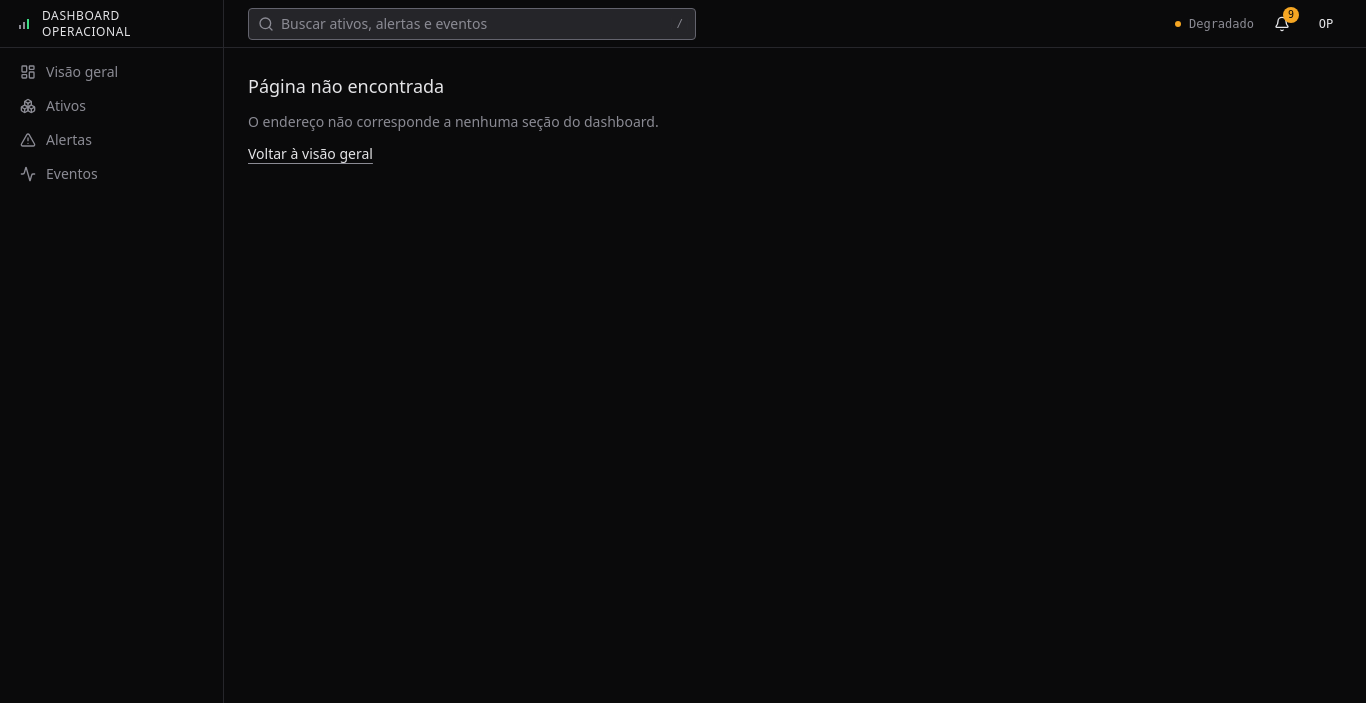
Test: rotas › rota desconhecida mostra a página 404 com caminho de volta
The width and height of the screenshot is (1366, 703).
Expected: the heading "Página não encontrada" is shown, [248,72,444,100]
Click the link "Voltar à visão geral": click(310, 154) [248,144,373,164]
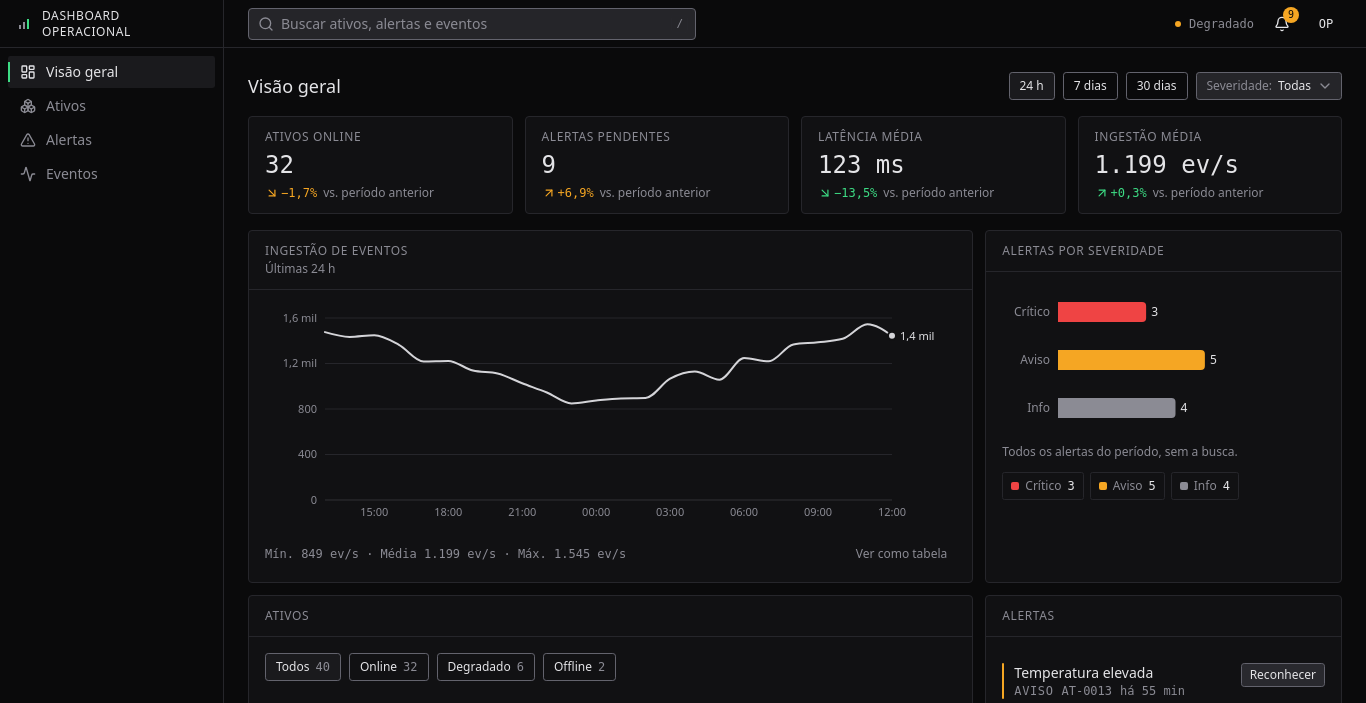
Expected: the heading "Visão geral" is shown, [248,72,341,100]
